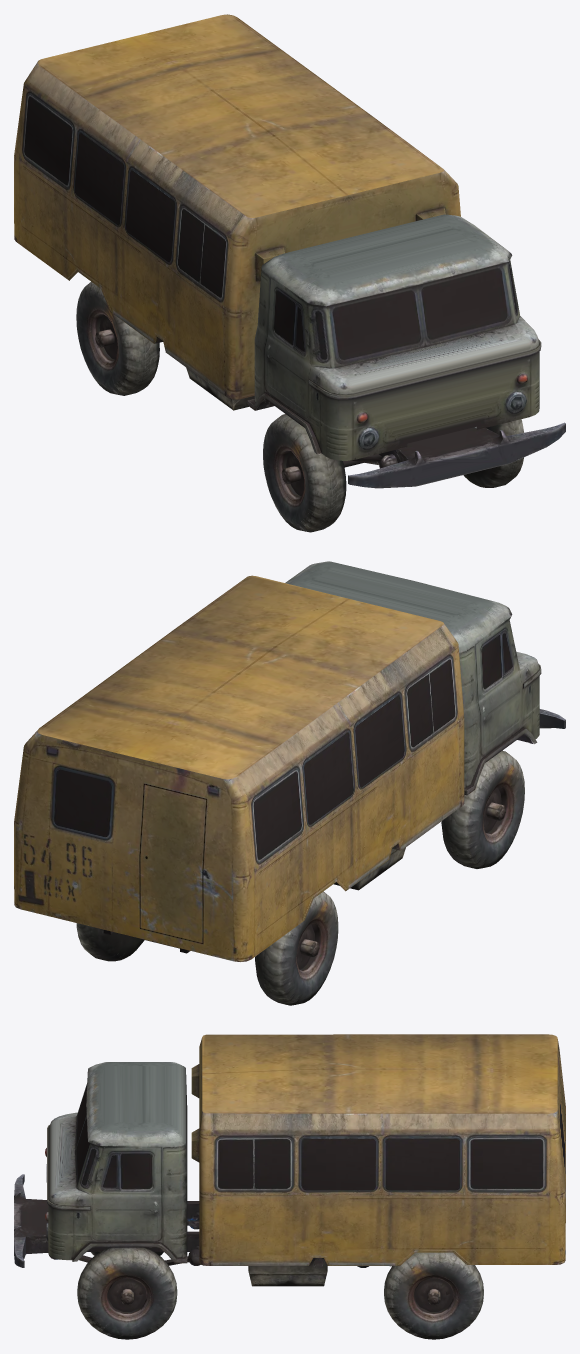
Rendered from gaz66.glb.
3 views of the same model, one above another, from view 1: azimuth 30°, elevation 25°; view 2: azimuth 150°, elevation 25°; view 3: azimuth 270°, elevation 25° (orthographic). The views are drawn at different scales.
Visible parts, largest first — view 1: Cube_Cube_1001_66_0; view 2: Cube_Cube_1001_66_0; view 3: Cube_Cube_1001_66_0.
Part boxes in pixels (x1,y1,x2,y2): Cube_Cube_1001_66_0: [14, 14, 565, 532]; Cube_Cube_1001_66_0: [14, 561, 565, 1005]; Cube_Cube_1001_66_0: [14, 1034, 565, 1339].
Size of the model in its own units: 2.35 by 2.69 by 5.8.
1 material, 1 textured.
